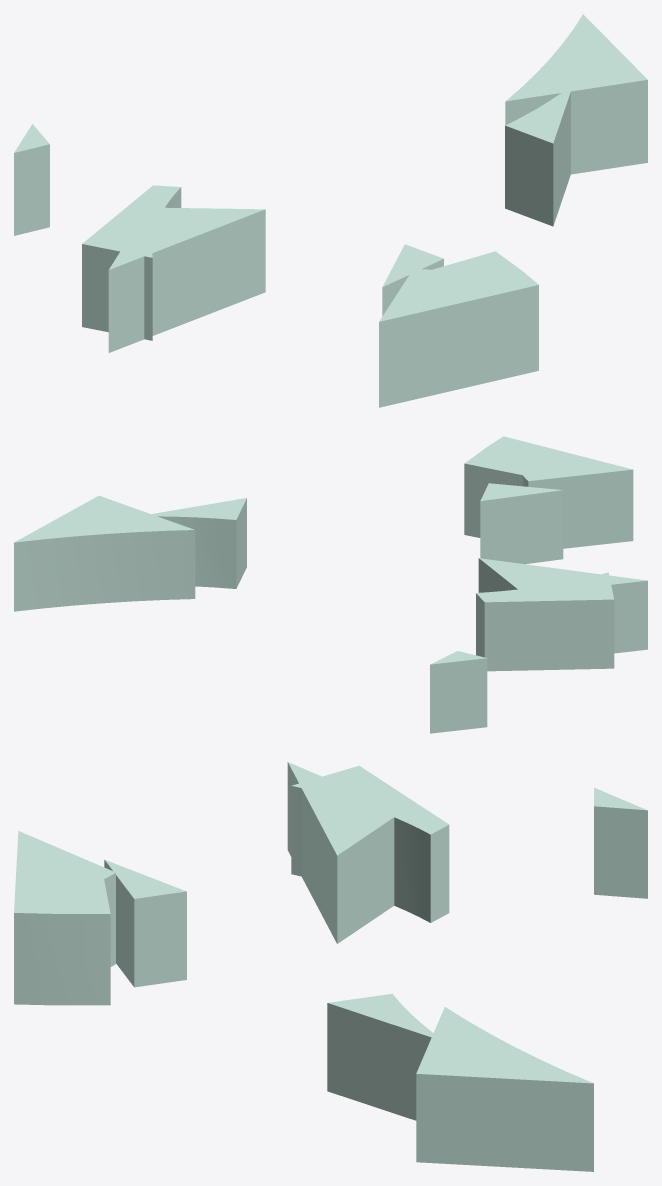
3 views of the same model, one above another, from view 1: azimuth 30°, elevation 25°; view 2: azimuth 150°, elevation 25°; view 3: azimuth 270°, elevation 25° (orthographic). The views are drawn at different scales.
Parts seen in each view (by area): view 1: Renderer Node; view 2: Renderer Node; view 3: Renderer Node.
Part boxes in pixels (left/top/right/bottom): Renderer Node: left=14, top=14, right=647, bottom=407; Renderer Node: left=14, top=436, right=647, bottom=733; Renderer Node: left=14, top=762, right=647, bottom=1171.
Bounding box in the file's own units: 1.77 × 0.2422 × 1.47.
